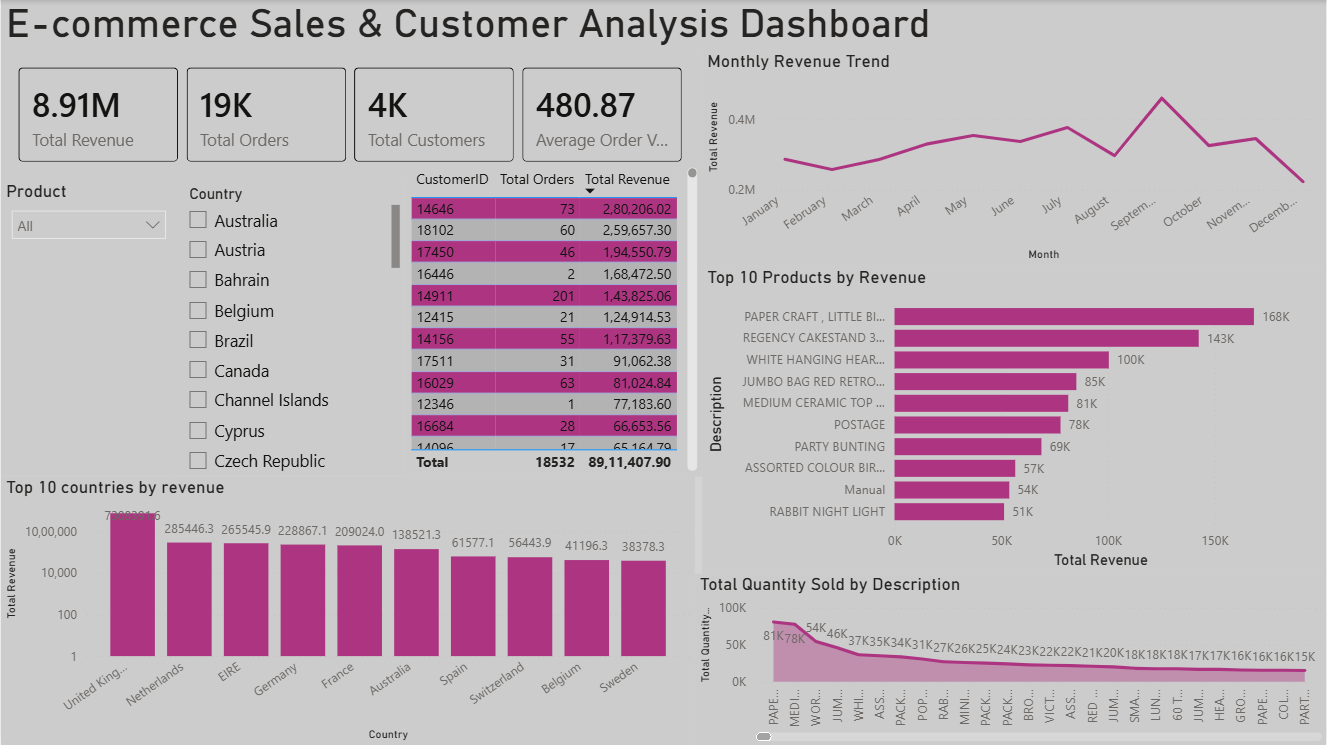

The page's visual inventory and layout, read from the dashboard file:
{"tool":"powerbi","page":{"name":"Page 1","canvas":[1280,720],"ordinal":0},"visuals":[{"type":"cardVisual","fields":{"Data":["retail_analysis.Total Revenue","retail_analysis.Total Orders","retail_analysis.Total Customers","retail_analysis.Average Order Value"]},"box":[0,48.3,676.8,125.5],"z":0},{"type":"lineClusteredColumnComboChart","title":"Monthly Revenue Trend","fields":{"Category":["retail_analysis.InvoiceDate.Variation.Date Hierarchy.Month"],"Y2":["retail_analysis.Total Revenue"]},"box":[676.8,48.3,603.2,208.7],"z":1000},{"type":"barChart","title":"Top 10 Products by Revenue","fields":{"Category":["retail_analysis.Description"],"Y":["retail_analysis.Total Revenue"]},"box":[676.8,257,603.2,296.8],"z":2000},{"type":"tableEx","fields":{"Values":["retail_analysis.CustomerID","retail_analysis.Total Orders","retail_analysis.Total Revenue"]},"box":[389.7,156.8,287.1,302.8],"z":3000},{"type":"slicer","fields":{"Values":["retail_analysis.Country"]},"box":[168.9,173.7,220.8,285.9],"z":4000},{"type":"columnChart","title":"Top 10 countries by revenue","fields":{"Category":["retail_analysis.Country"],"Y":["retail_analysis.Total Revenue"]},"box":[0,459.7,669.6,260.6],"z":5000},{"type":"slicer","fields":{"Values":["retail_analysis.InvoiceDate"]},"box":[1.4,308.6,167.1,151.4],"z":6000},{"type":"slicer","title":"Product","fields":{"Values":["retail_analysis.Description"]},"box":[0,174.3,168.6,134.3],"z":7000},{"type":"cardVisual","title":"E-commerce Sales & Customer Analysis Dashboard","fields":{"Data":["Sum(retail_analysis.UnitPrice)"]},"box":[0,0,1280,50],"z":8000},{"type":"areaChart","fields":{"Category":["retail_analysis.Description"],"Y":["retail_analysis.Total Quantity Sold"]},"box":[669.6,553.8,610.5,166.5],"z":9000}]}

Visuals, with their boxes in screenshot pixels (x1, y1, x2, y2), scaled from the page's 1280x720 canvas onto the 1327x745 screenshot:
cardVisual - retail_analysis.Total Revenue x retail_analysis.Total Orders: 0:50:702:180
"Monthly Revenue Trend" lineClusteredColumnComboChart: 702:50:1326:266
"Top 10 Products by Revenue" barChart: 702:266:1326:573
tableEx - retail_analysis.CustomerID x retail_analysis.Total Orders: 404:162:702:476
slicer - retail_analysis.Country: 175:180:404:476
"Top 10 countries by revenue" columnChart: 0:476:694:744
slicer - retail_analysis.InvoiceDate: 1:319:175:476
"Product" slicer: 0:180:175:319
"E-commerce Sales & Customer Analysis Dashboard" cardVisual: 0:0:1326:52
areaChart - retail_analysis.Description x retail_analysis.Total Quantity Sold: 694:573:1326:744
